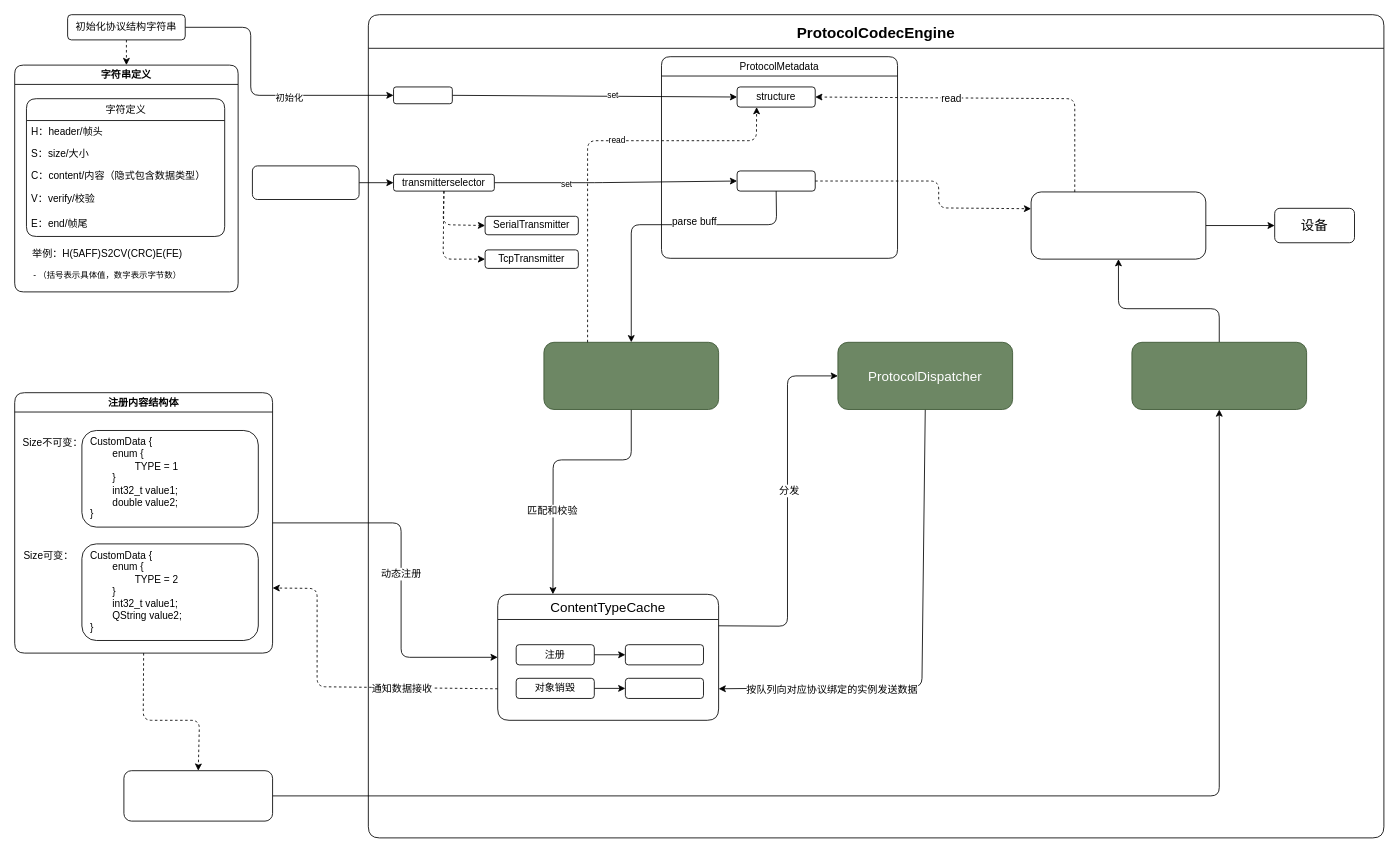
The diagram is 1399 pixels wide and 853 high, and some of its shapes have lost their labels. The shapes that lost their labels are listed below. From the top down, each one's centre as x and y in pixels, then its label:
At pixel 422 95: "parser".
At pixel 305 182: "传输方式：串口/网络".
At pixel 775 180: "transmitter".
At pixel 1118 225: "ProtocolTransmitter".
At pixel 631 375: "ProtocolDecoder".
At pixel 1219 375: "ProtocolEncoder".
At pixel 664 654: "缓存".
At pixel 664 687: "清除类型缓存".
At pixel 198 795: "数据发送".
